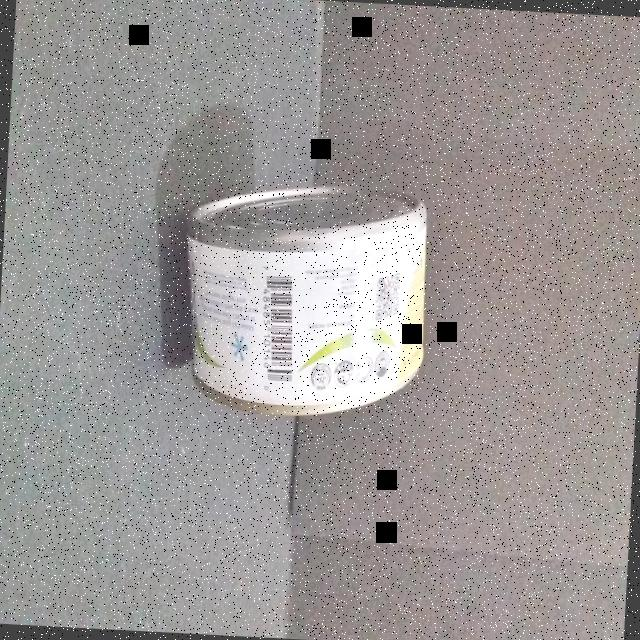can: (172, 172, 436, 418)
